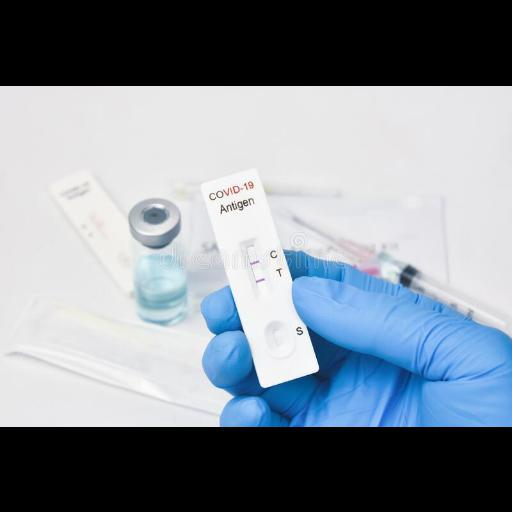Pos: (201, 166, 319, 388)
